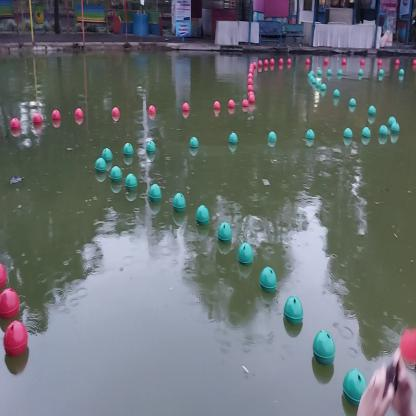green_buoy: (342, 364, 367, 410), (310, 326, 336, 368), (281, 294, 304, 330), (260, 265, 278, 298), (236, 239, 255, 268), (170, 188, 186, 217), (216, 218, 233, 245), (147, 180, 163, 206), (195, 202, 211, 228), (107, 165, 125, 185), (125, 170, 138, 195), (94, 155, 108, 178), (100, 145, 113, 163), (377, 121, 389, 140), (123, 138, 134, 158), (361, 122, 372, 141), (145, 138, 156, 157), (384, 111, 397, 127), (342, 124, 354, 141), (188, 135, 201, 150), (304, 124, 314, 143), (391, 120, 402, 137), (228, 130, 239, 146), (268, 128, 277, 146), (366, 103, 378, 116), (348, 96, 357, 110), (334, 87, 342, 99), (320, 83, 328, 94)
red_buoy: (2, 320, 37, 361), (0, 284, 22, 320), (0, 257, 10, 288), (7, 111, 21, 132), (31, 108, 43, 130), (73, 104, 85, 122), (51, 105, 61, 126), (110, 106, 122, 122), (181, 101, 190, 114), (242, 95, 249, 111), (212, 99, 221, 111), (147, 104, 156, 116), (227, 97, 235, 110), (247, 93, 257, 103)
